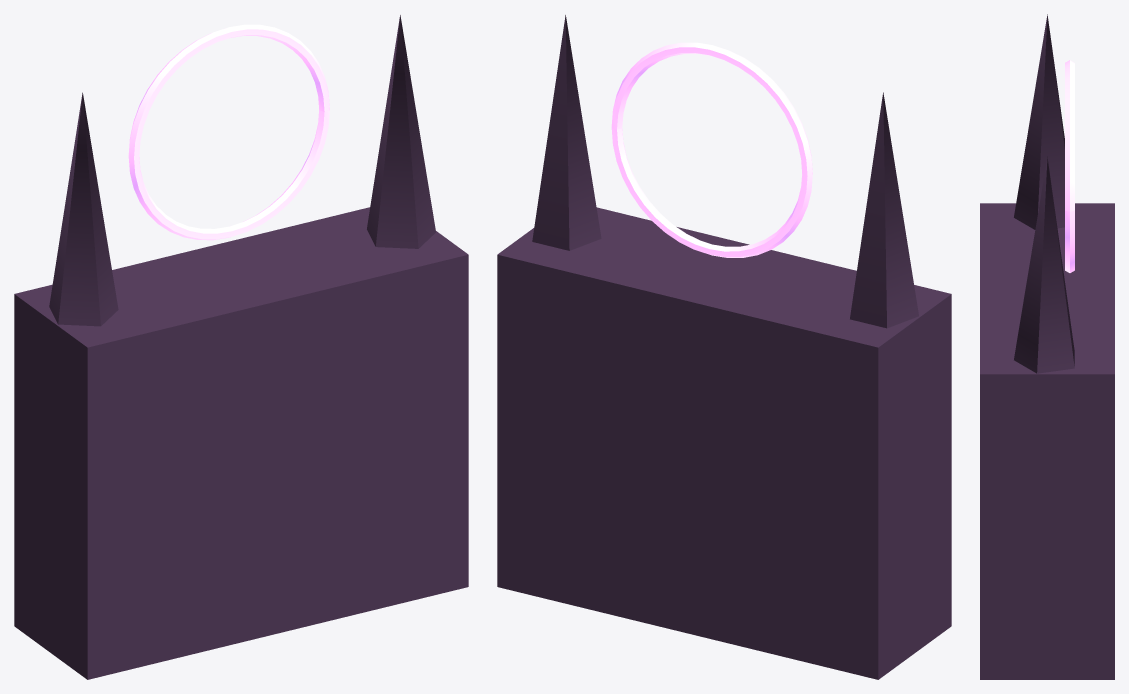
The model's file is violet.glb.
3 views of the same model, side by side, from view 1: azimuth 30°, elevation 25°; view 2: azimuth 150°, elevation 25°; view 3: azimuth 270°, elevation 25° (orthographic). The views are drawn at different scales.
Visible parts, largest first — view 1: LOD0._color_rgb_88_61_96_emissive_null, LOD0._color_e5b8ff_emissive_a56cff_; view 2: LOD0._color_rgb_88_61_96_emissive_null, LOD0._color_e5b8ff_emissive_a56cff_; view 3: LOD0._color_rgb_88_61_96_emissive_null, LOD0._color_e5b8ff_emissive_a56cff_.
Part boxes in pixels (x1,y1,x2,y2): LOD0._color_rgb_88_61_96_emissive_null: (14,15,468,679); LOD0._color_e5b8ff_emissive_a56cff_: (128,24,329,240); LOD0._color_rgb_88_61_96_emissive_null: (497,15,951,679); LOD0._color_e5b8ff_emissive_a56cff_: (611,42,812,257); LOD0._color_rgb_88_61_96_emissive_null: (980,14,1114,679); LOD0._color_e5b8ff_emissive_a56cff_: (1065,60,1074,272).
Size of what is drawn, in the model's own units: 360 by 515 by 120.
